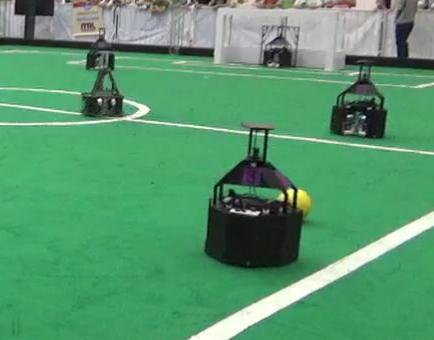robot: (201, 120, 303, 267), (329, 54, 387, 139), (78, 45, 124, 117)
